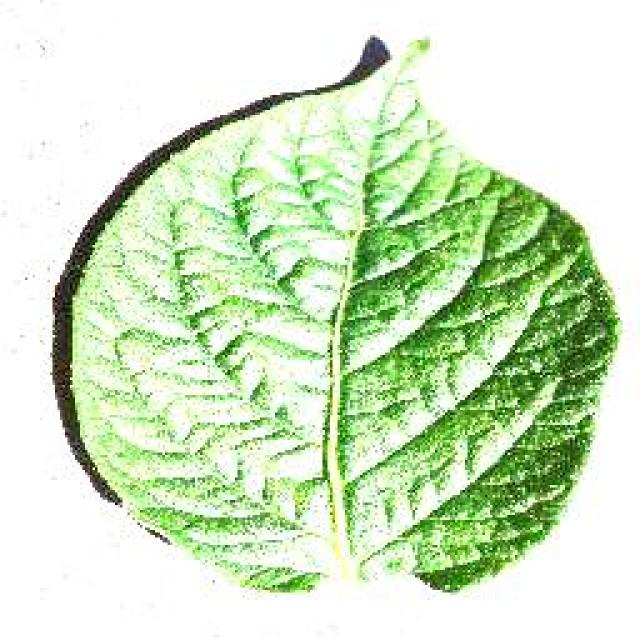Potato___healthy: (65, 37, 624, 600)
